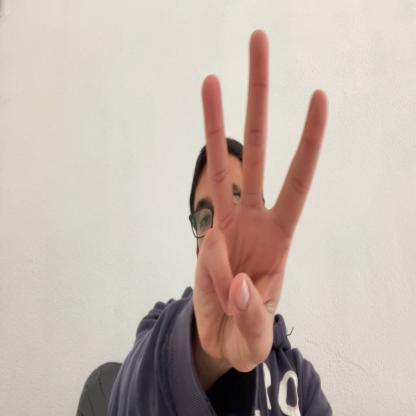W: (194, 25, 328, 379)
